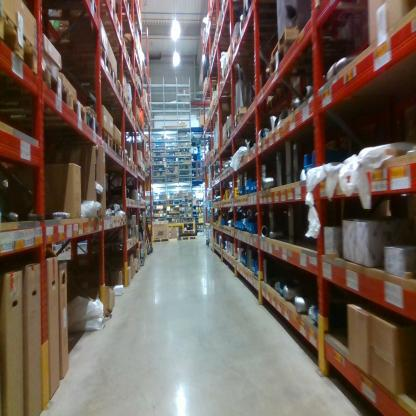pallet: (88, 24, 352, 105), (1, 90, 87, 129), (267, 48, 354, 82), (1, 7, 40, 81), (2, 64, 67, 107), (230, 40, 290, 82), (41, 41, 111, 75), (34, 114, 101, 140), (68, 70, 120, 93), (220, 0, 261, 23), (214, 22, 251, 47), (96, 15, 125, 41), (233, 116, 276, 133), (88, 0, 121, 18), (220, 67, 244, 91), (96, 123, 115, 153), (225, 136, 269, 148), (108, 38, 128, 59), (213, 92, 241, 106), (224, 126, 253, 139), (120, 15, 138, 34), (112, 56, 130, 71), (109, 139, 122, 158), (209, 104, 231, 115), (119, 67, 135, 82), (150, 236, 170, 247), (232, 110, 252, 120), (178, 234, 198, 241), (216, 144, 222, 153), (212, 144, 218, 152), (209, 148, 214, 157)
pallet_truck: (131, 213, 148, 269)
